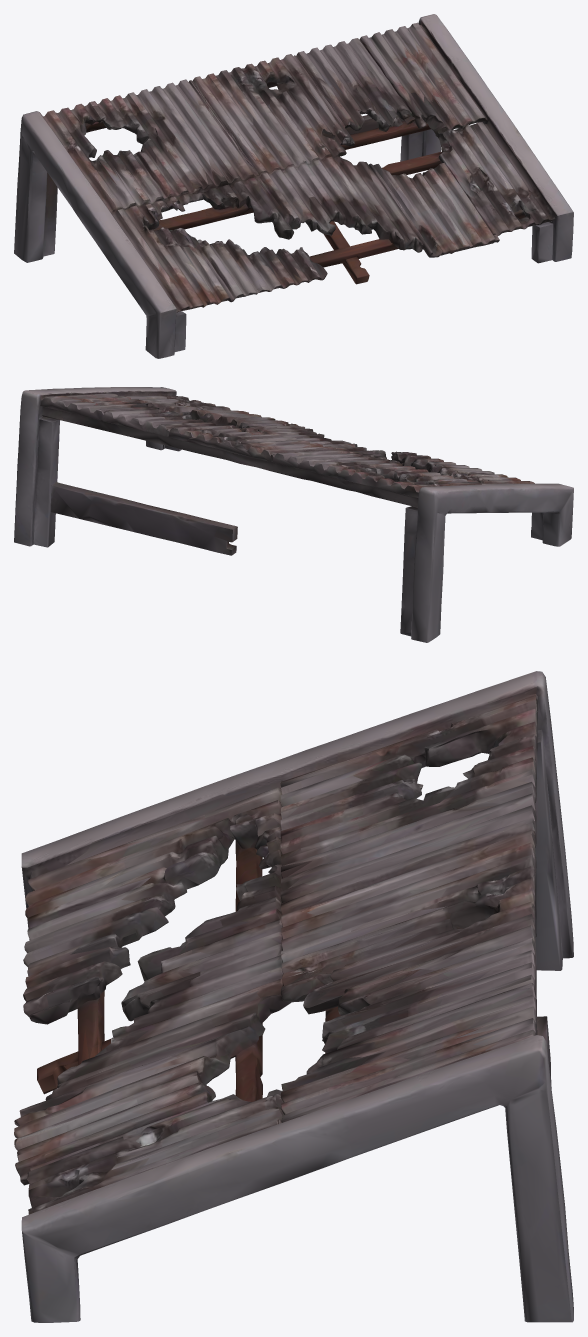
The model's file is roof_gable_metal_damaged_idle.glb.
3 views of the same model, one above another, from view 1: azimuth 30°, elevation 25°; view 2: azimuth 150°, elevation 25°; view 3: azimuth 270°, elevation 25° (orthographic). The views are drawn at different scales.
Visible parts, largest first — view 1: tripo_node_f489a406-57e6-4e66-9da8-9993563ae30b; view 2: tripo_node_f489a406-57e6-4e66-9da8-9993563ae30b; view 3: tripo_node_f489a406-57e6-4e66-9da8-9993563ae30b.
Part boxes in pixels (x1,y1,x2,y2): tripo_node_f489a406-57e6-4e66-9da8-9993563ae30b: [14, 14, 573, 358]; tripo_node_f489a406-57e6-4e66-9da8-9993563ae30b: [14, 387, 573, 642]; tripo_node_f489a406-57e6-4e66-9da8-9993563ae30b: [14, 671, 573, 1322].
Bounding box in the file's own units: 3 × 1 × 1.86.
Materials: 1 (1 with a texture image).
